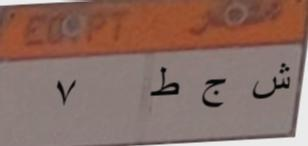7: (53, 73, 80, 110)
Taa: (150, 65, 180, 103)
jeem: (200, 76, 230, 110)
sheen: (249, 60, 294, 102)
